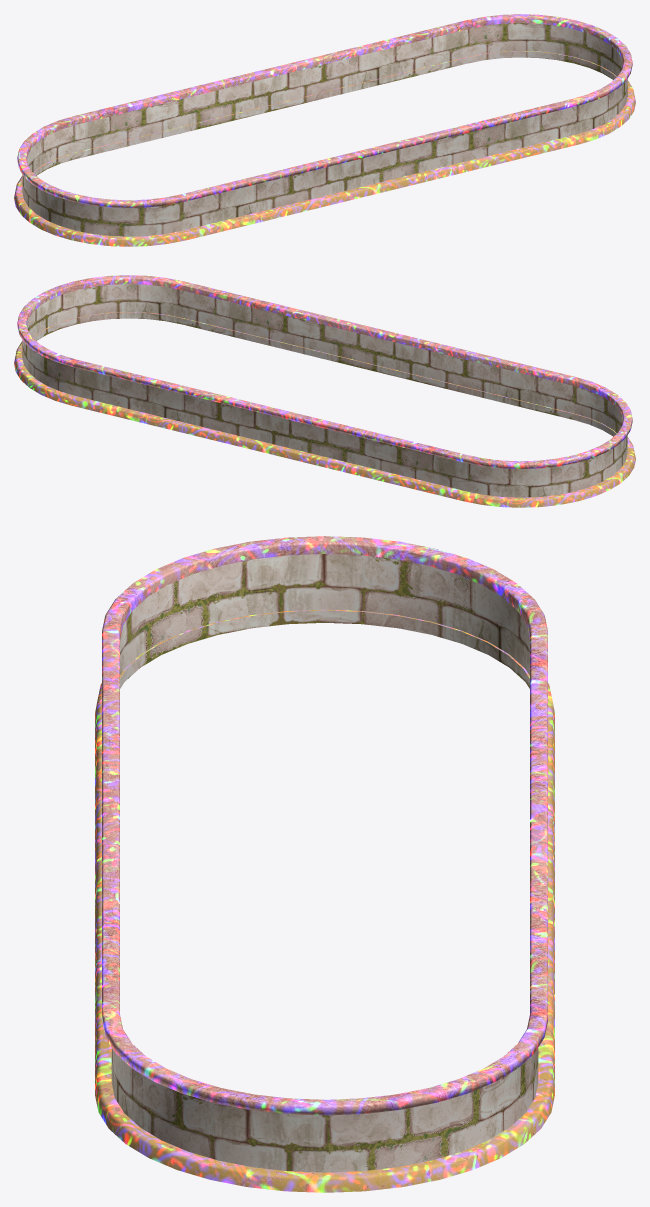
File: flower_pot_long_SM.fbx
3 views of the same model, one above another, from view 1: azimuth 30°, elevation 25°; view 2: azimuth 150°, elevation 25°; view 3: azimuth 270°, elevation 25° (orthographic). The views are drawn at different scales.
Parts seen in each view (by area): view 1: flower_pot_long_SM_LOD0; view 2: flower_pot_long_SM_LOD0; view 3: flower_pot_long_SM_LOD0.
Boxes of the visible parts, x1,y1,x2,y2 form: flower_pot_long_SM_LOD0: (14,14,635,246); flower_pot_long_SM_LOD0: (14,275,635,507); flower_pot_long_SM_LOD0: (95,536,554,1192).
Size of the model in its own units: 1641 by 553 by 111.
Materials: 3 (3 with a texture image).
